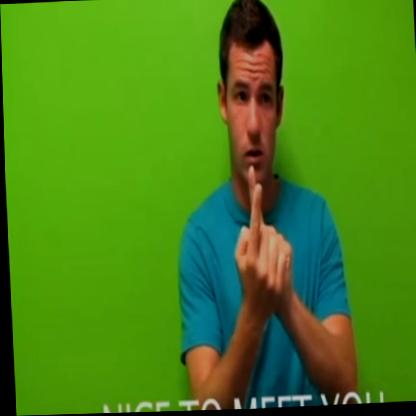NiceToMeetYou: (220, 152, 318, 354)
